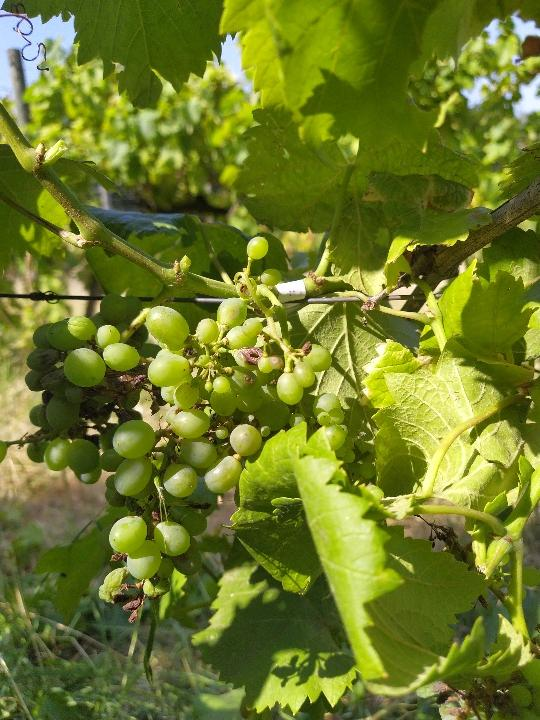grape: (21, 233, 336, 627)
